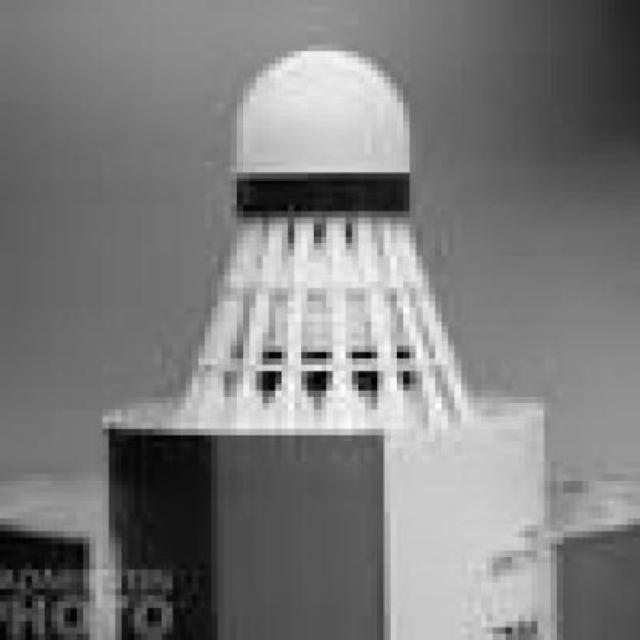Shuttlecock: (175, 43, 477, 431)
